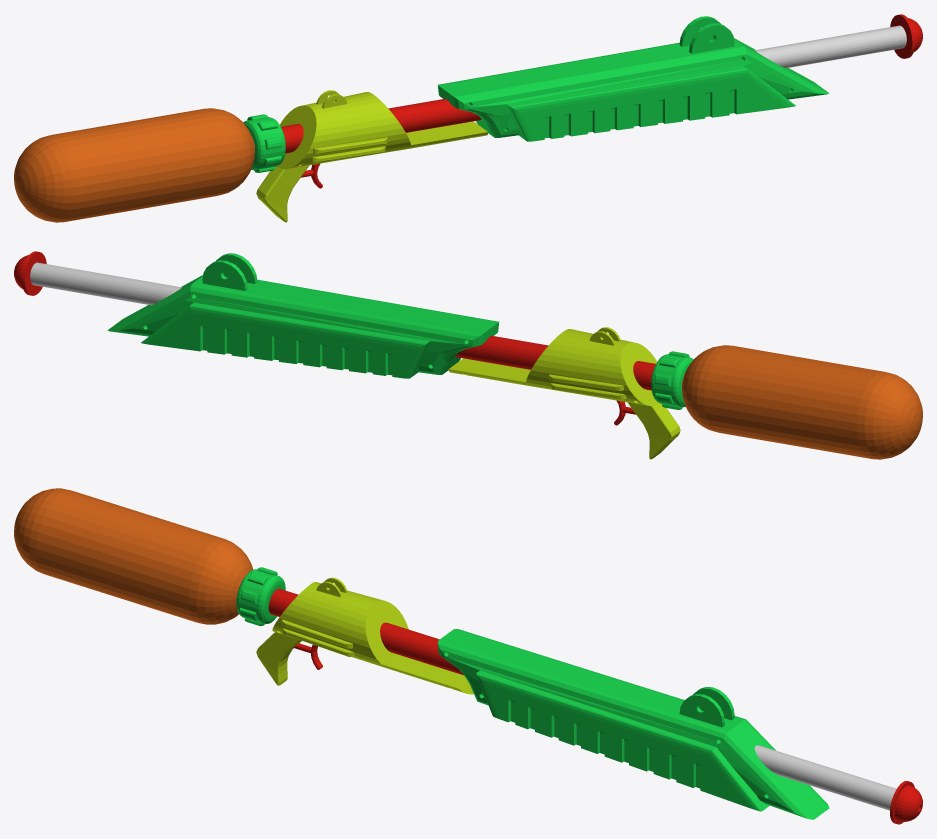
3 renders of one model, top to bottom at view 1: azimuth 30°, elevation 25°; view 2: azimuth 150°, elevation 25°; view 3: azimuth 330°, elevation 25°, orthographic.
Parts seen in each view (by area): view 1: Cube_Cube.001; view 2: Cube_Cube.001; view 3: Cube_Cube.001.
Boxes of the visible parts, x1,y1,x2,y2 form: Cube_Cube.001: (14,14,922,222); Cube_Cube.001: (14,251,922,459); Cube_Cube.001: (14,488,922,824).
Bounding box in the file's own units: 892 × 129 × 75.82.
